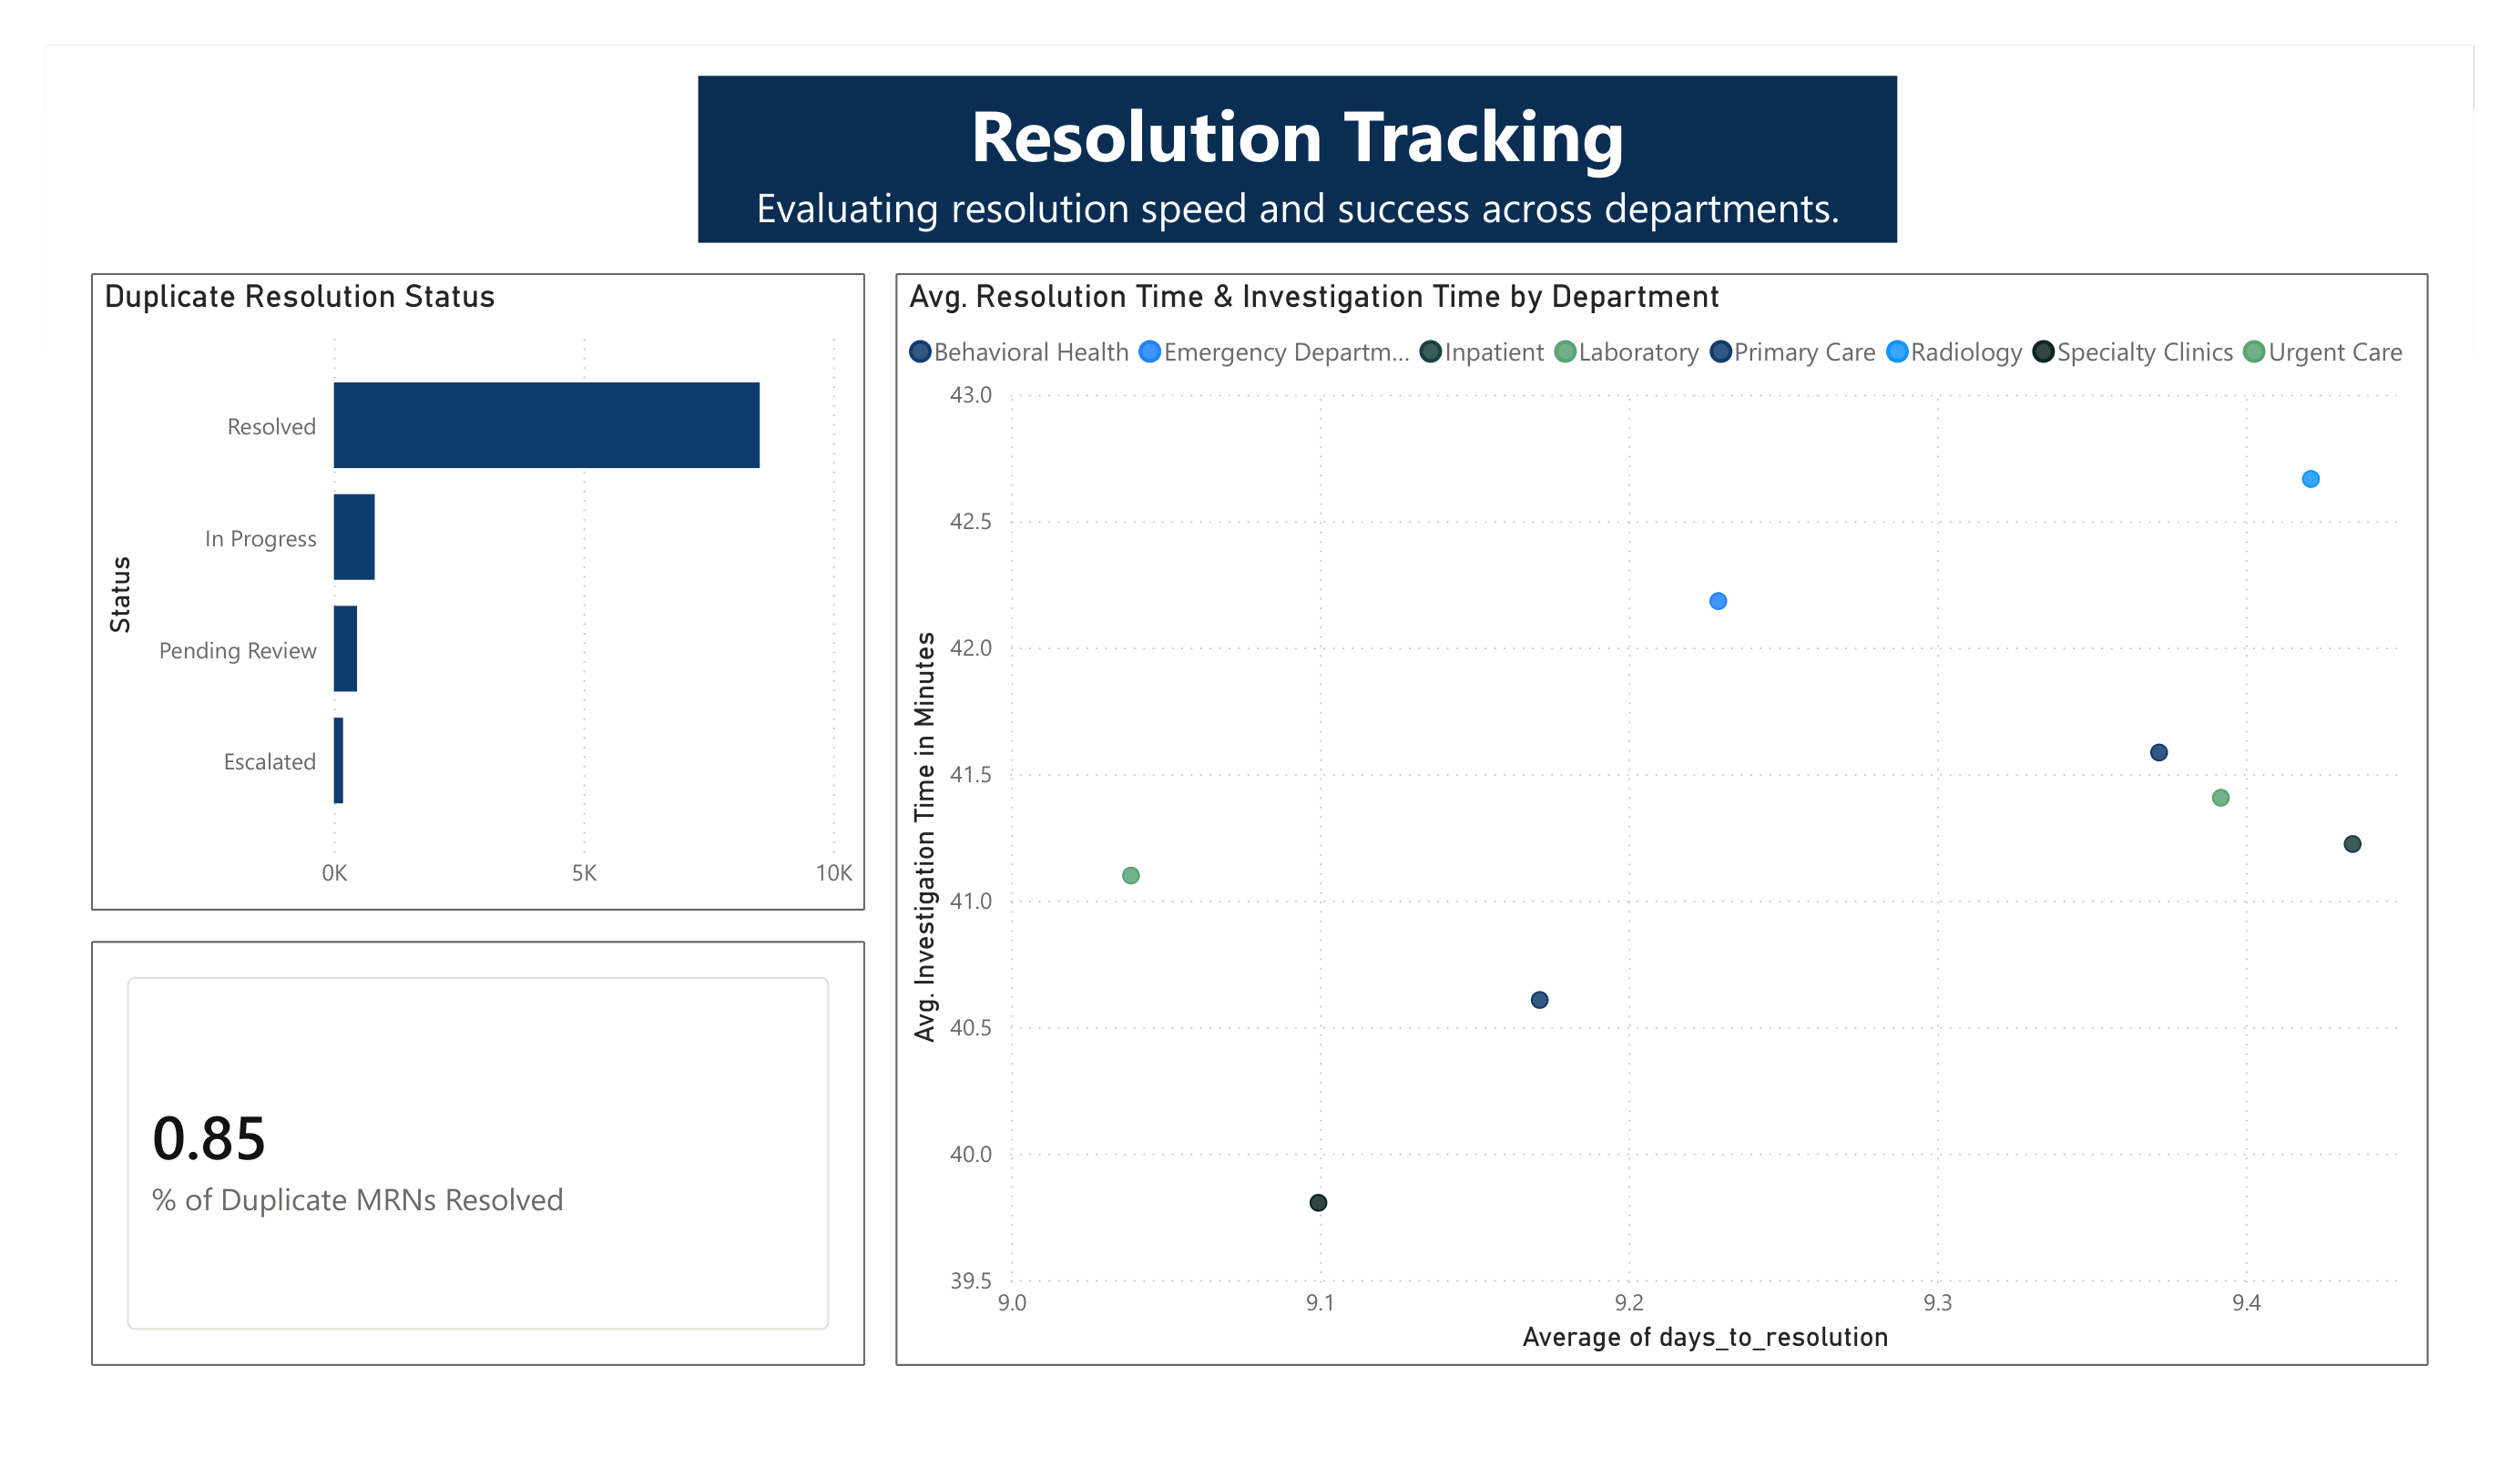

This screenshot's page, from the dashboard's own definition file:
{"tool":"powerbi","page":{"name":"Resolution Tacking","canvas":[1280,720],"ordinal":2},"visuals":[{"type":"cardVisual","fields":{"Data":["_DAX.% Resolved"]},"box":[24,472,408,224],"z":0},{"type":"barChart","title":"Duplicate Resolution Status","fields":{"Category":["fact_duplicate_events.status"],"Y":["CountNonNull(fact_duplicate_events.duplicate_id)"]},"box":[24,120,408,336],"z":1000},{"type":"scatterChart","title":"Avg. Resolution Time & Investigation Time by Department","fields":{"X":["Avg(fact_duplicate_events.days_to_resolution)"],"Y":["Avg(fact_duplicate_events.investigation_time_minutes)"],"Series":["dim_department.department_name"]},"box":[448,120,808,576],"z":2000},{"type":"textbox","box":[344,16,632,88],"z":3000}]}

Visuals, with their boxes on the page's 1280x720 design canvas (x1, y1, x2, y2). These are canvas units, not pixel positions in the 2520x1457 screenshot, which may show the page scaled, cropped or inside an application window:
cardVisual - _DAX.% Resolved: x1=24, y1=472, x2=432, y2=696
"Duplicate Resolution Status" barChart: x1=24, y1=120, x2=432, y2=456
"Avg. Resolution Time & Investigation Time by Department" scatterChart: x1=448, y1=120, x2=1256, y2=696
textbox: x1=344, y1=16, x2=976, y2=104
